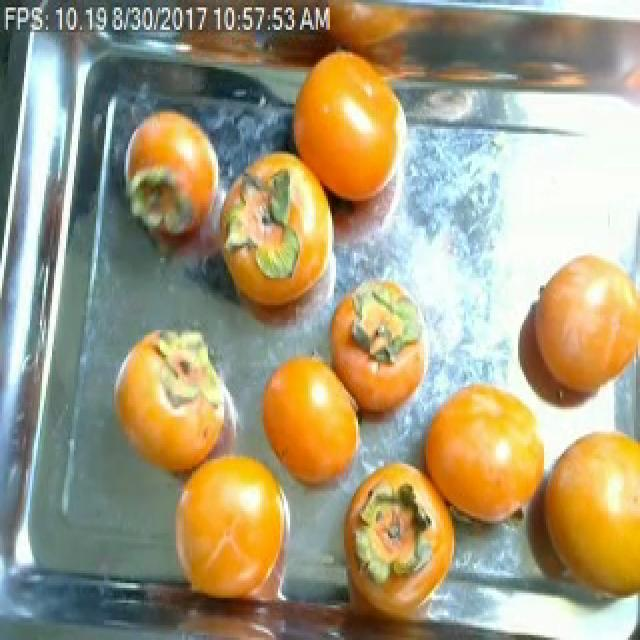Fruit: (272, 35, 428, 233), (404, 362, 562, 553), (502, 238, 640, 437), (102, 315, 246, 491), (156, 437, 288, 628), (114, 94, 230, 276), (246, 338, 364, 508)
